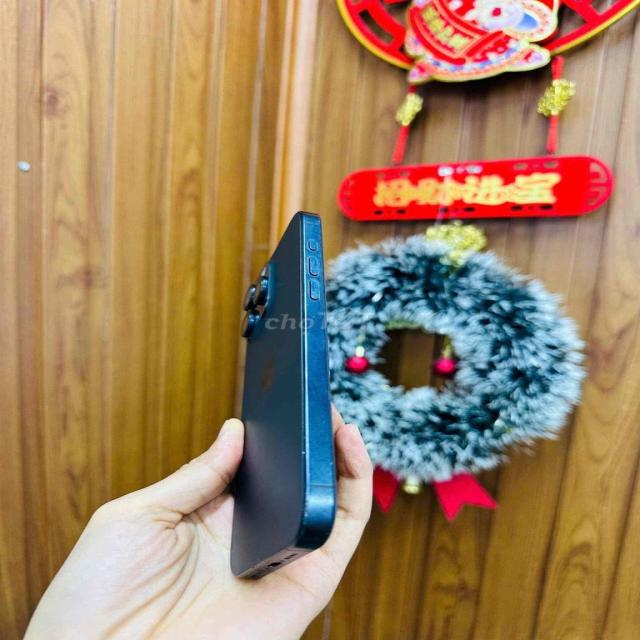gen_15: (202, 196, 358, 572)
